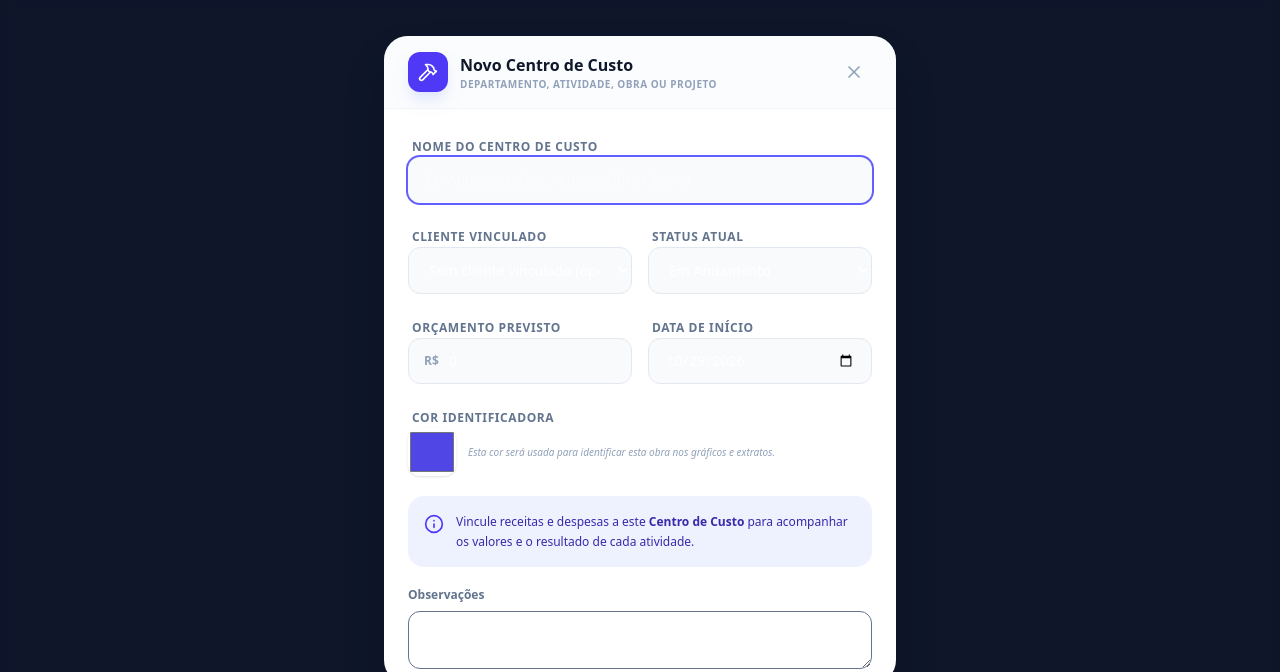
Test: a cost center save error keeps the dialog open
This screenshot has width=1280, height=672.
In the field labelled "Nome do Centro de Custo": (640, 180) left=408, top=157, right=872, bottom=203, type "Administrativo"
(page scrolled)
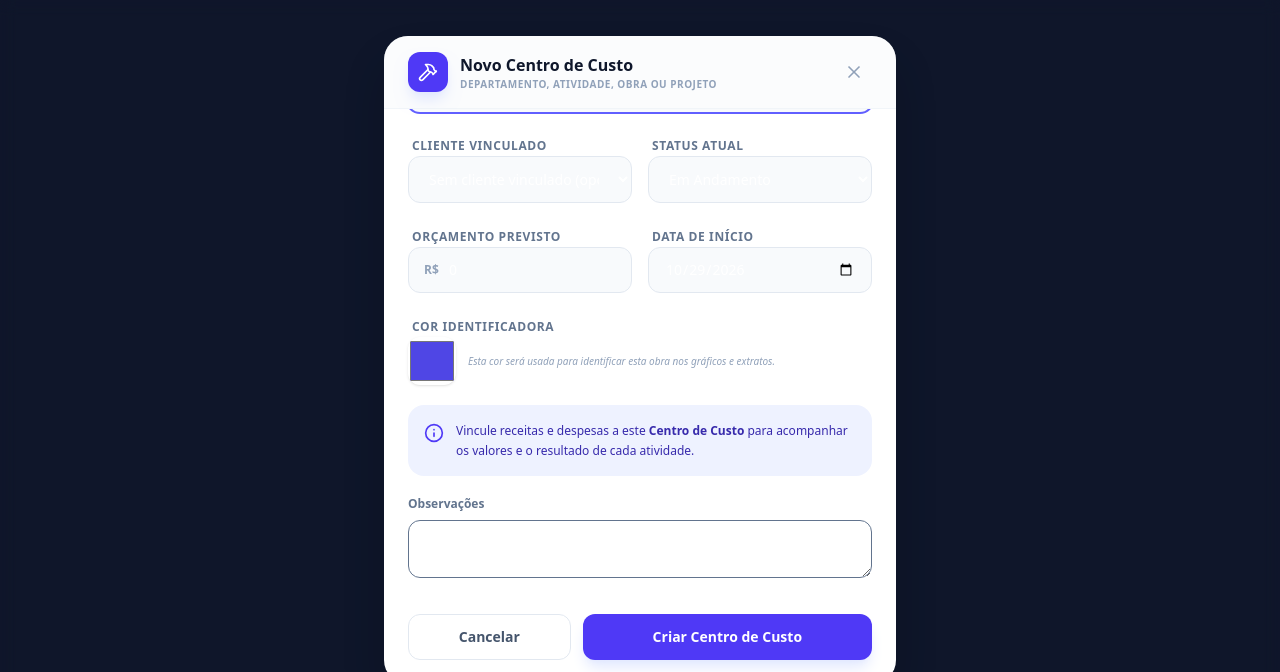
Click the button "Criar Centro de Custo": (727, 637) left=583, top=614, right=872, bottom=660
(page scrolled)
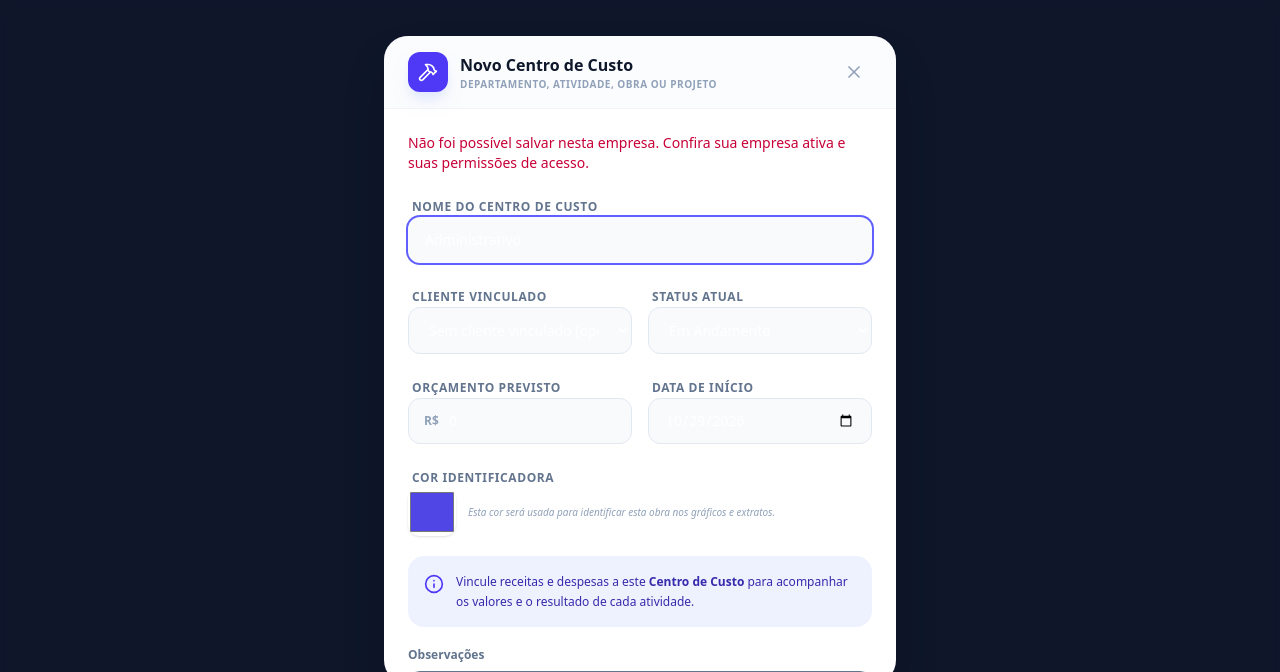
Expected: the message is shown, left=408, top=133, right=872, bottom=173
